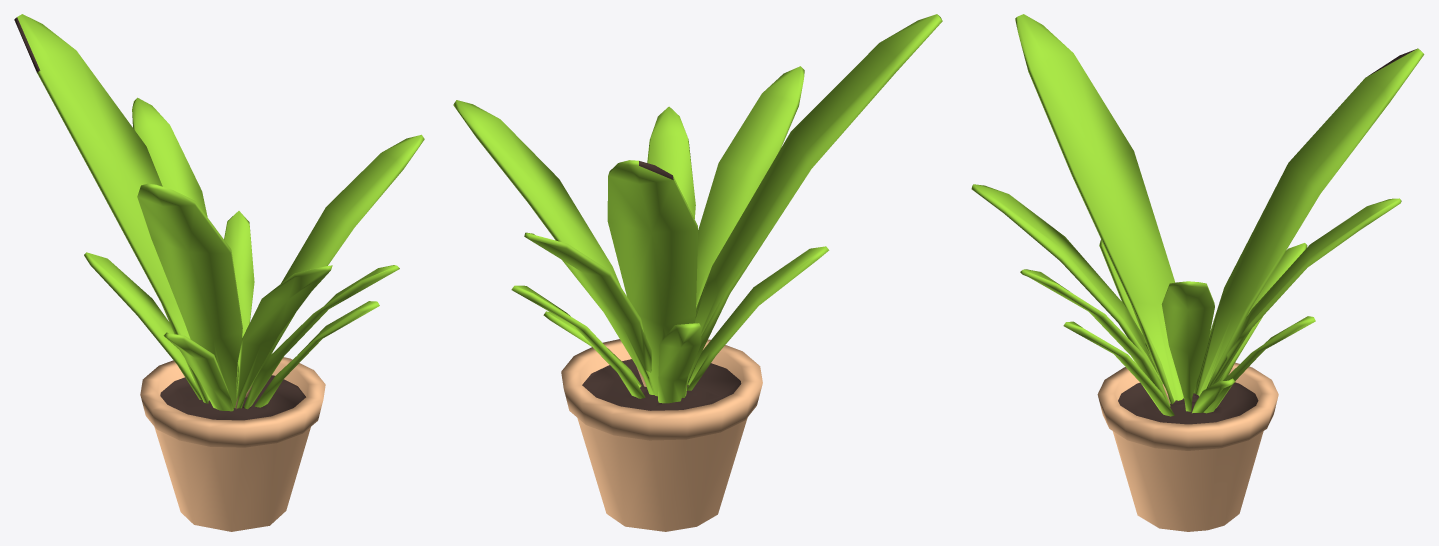
Rendered from planta.fbx.
3 renders of one model, left to right at view 1: azimuth 30°, elevation 25°; view 2: azimuth 150°, elevation 25°; view 3: azimuth 270°, elevation 25°, orthographic. The views are drawn at different scales.
Visible parts, largest first — view 1: Cylinder; view 2: Cylinder; view 3: Cylinder.
Boxes of the visible parts, x1,y1,x2,y2 form: Cylinder: (14, 14, 424, 531); Cylinder: (453, 14, 942, 531); Cylinder: (971, 14, 1424, 531).
Bounding box in the file's own units: 778 × 881 × 869.
